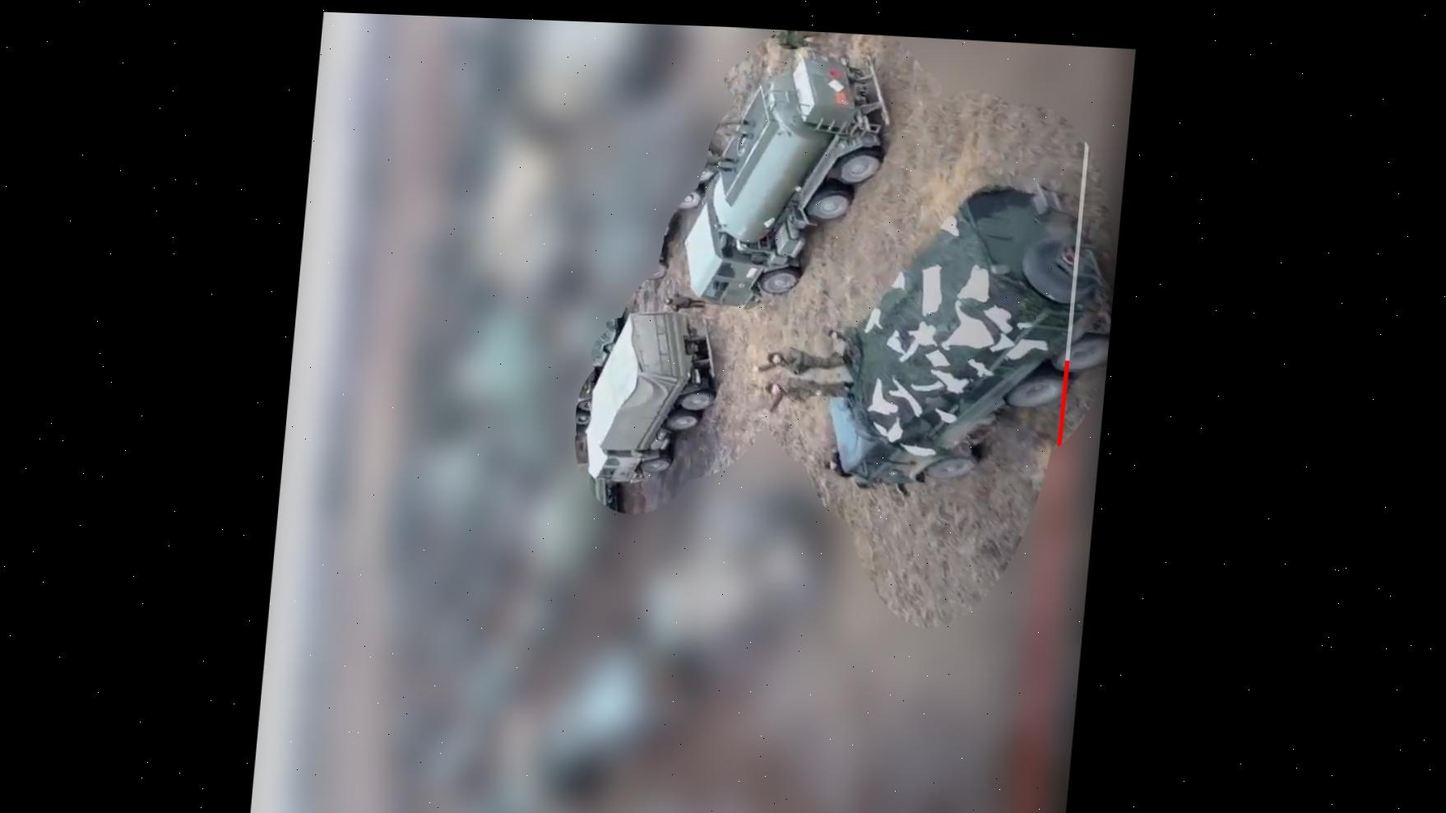truck: (819, 174, 1123, 509), (676, 50, 893, 316), (581, 300, 727, 489)
